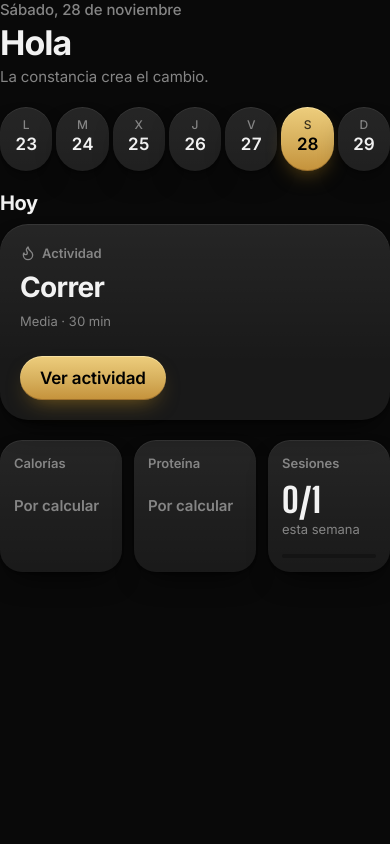
it: dashboard home overview › offers the same mark-complete action for a planned activity
Later steps or results of the test are not shown.
What coordinates should you click on to do the following:
click the button with aria-label "Ver la sesión Correr"
I would click on:
 (72, 253)
Its box is 0,224 -> 389,420.
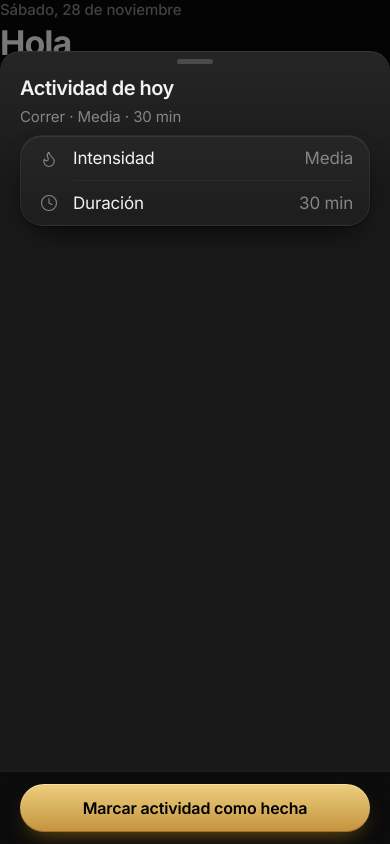
Check: the text "30 min" is shown, box 299,192 -> 353,214
